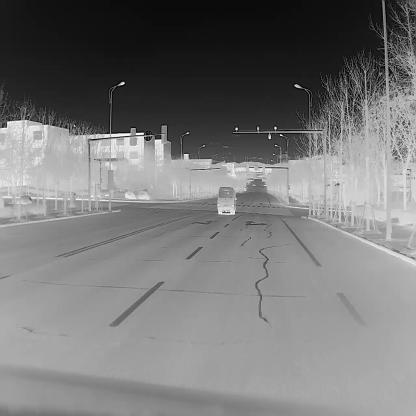car: (242, 185, 246, 190), (252, 183, 256, 187), (262, 184, 266, 186)
truck: (217, 184, 235, 214)
